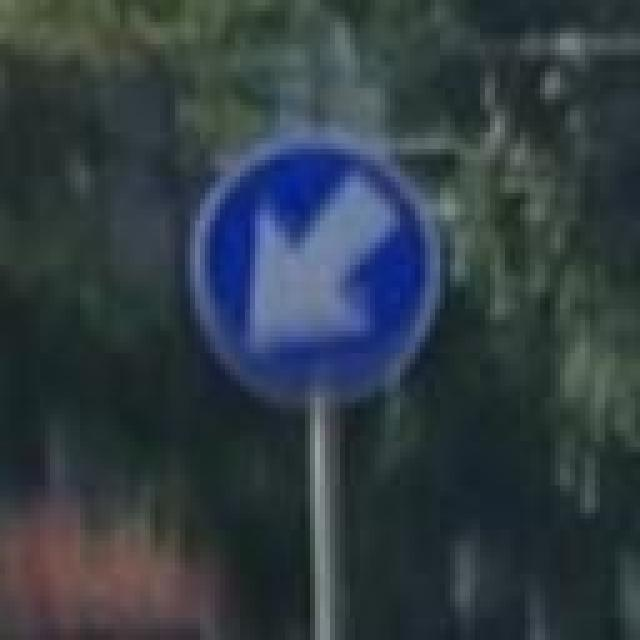traffic sign: (200, 144, 420, 398)
